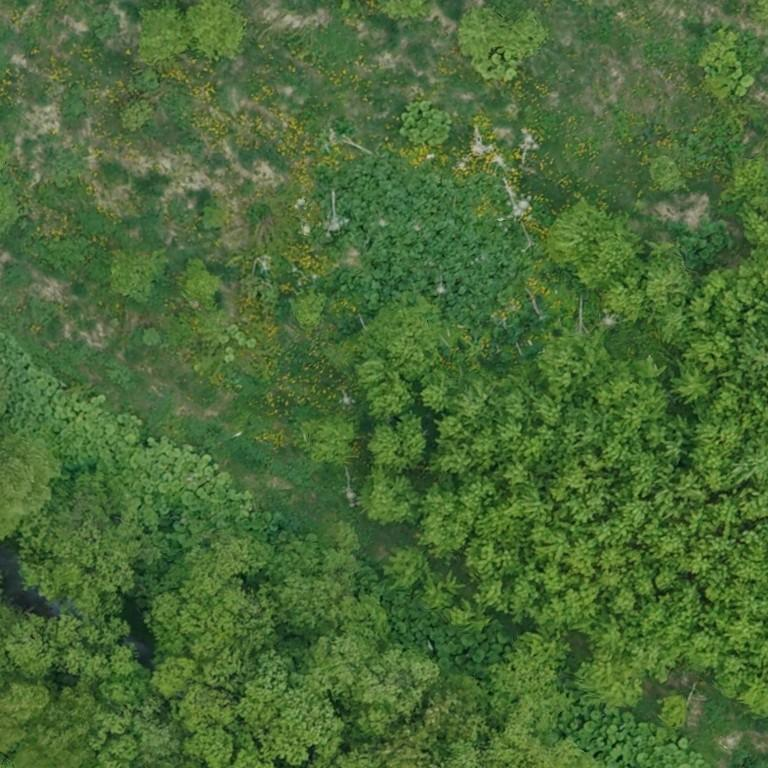hogweed: (333, 156, 522, 333)
